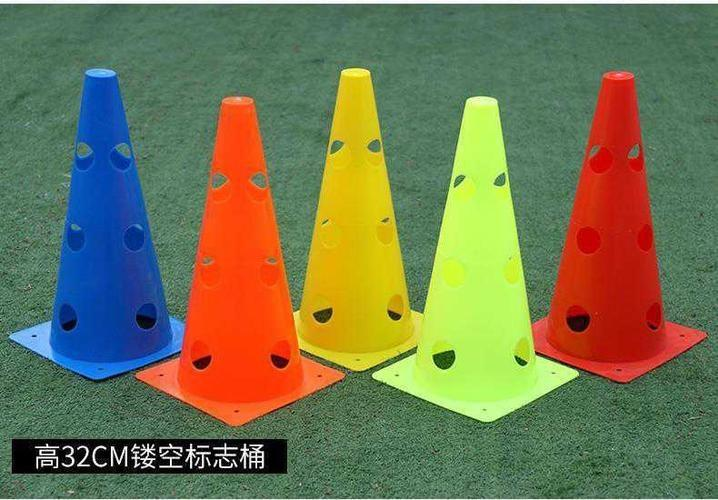cone_barrel: (171, 101, 311, 411), (37, 74, 180, 376), (409, 103, 548, 408), (539, 71, 682, 365), (291, 74, 422, 365)
